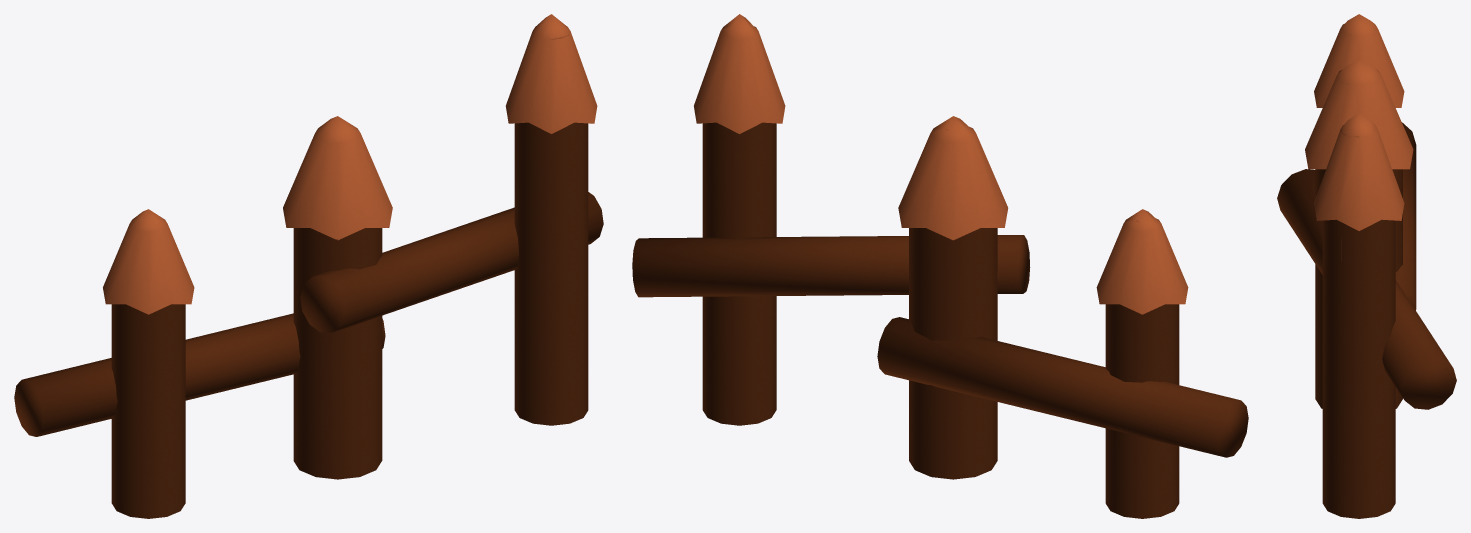
The model's file is Fence.fbx.
3 renders of one model, left to right at view 1: azimuth 30°, elevation 25°; view 2: azimuth 150°, elevation 25°; view 3: azimuth 270°, elevation 25°, orthographic.
Visible parts, largest first — view 1: Cylinder; view 2: Cylinder; view 3: Cylinder.
Boxes of the visible parts, bbox=[...] form: Cylinder: bbox=[14, 14, 603, 518]; Cylinder: bbox=[632, 14, 1248, 518]; Cylinder: bbox=[1277, 14, 1456, 518].
Size of the model in its own units: 552 by 359 by 150.
2 materials, 2 textured.
